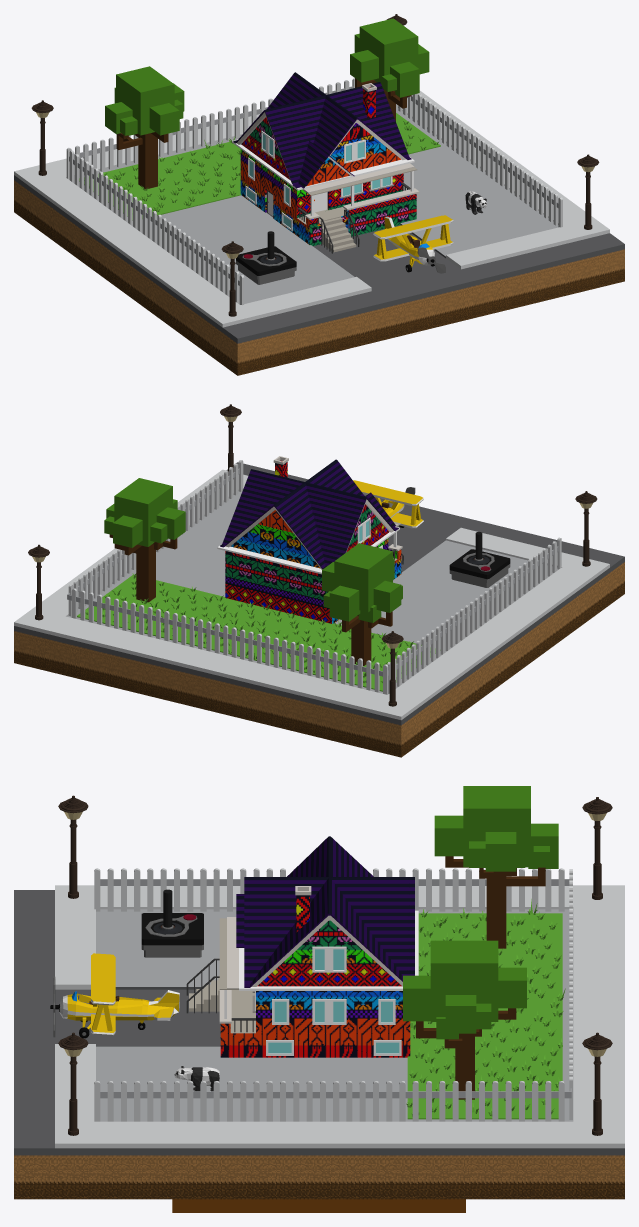
3 views of the same model, one above another, from view 1: azimuth 30°, elevation 25°; view 2: azimuth 150°, elevation 25°; view 3: azimuth 270°, elevation 25° (orthographic). The views are drawn at different scales.
Visible parts, largest first — view 1: Cube.004, Cube.966, VEHICLES_AIRPLANE, OBJRANDOM_JOYSTICK; view 2: Cube.004, Cube.966, OBJRANDOM_JOYSTICK, VEHICLES_AIRPLANE; view 3: Cube.004, Cube.966, VEHICLES_AIRPLANE, UNDERGROUND_ART_PIECE_VAN_GOGH, OBJRANDOM_JOYSTICK, ANIMAL_PANDA.
Boxes of the visible parts, x1,y1,x2,y2 form: Cube.004: [14, 14, 624, 375]; Cube.966: [232, 72, 419, 253]; VEHICLES_AIRPLANE: [373, 215, 453, 273]; OBJRANDOM_JOYSTICK: [236, 231, 296, 284]; Cube.004: [14, 404, 624, 757]; Cube.966: [217, 456, 403, 623]; OBJRANDOM_JOYSTICK: [449, 532, 510, 587]; VEHICLES_AIRPLANE: [353, 480, 423, 528]; Cube.004: [14, 786, 624, 1199]; Cube.966: [186, 836, 418, 1057]; VEHICLES_AIRPLANE: [50, 953, 179, 1038]; UNDERGROUND_ART_PIECE_VAN_GOGH: [172, 1199, 465, 1212]; OBJRANDOM_JOYSTICK: [141, 889, 203, 957]; ANIMAL_PANDA: [174, 1066, 219, 1091].
Size of the model in its own units: 4000 by 1726 by 4000.
43 materials, 8 textured.
